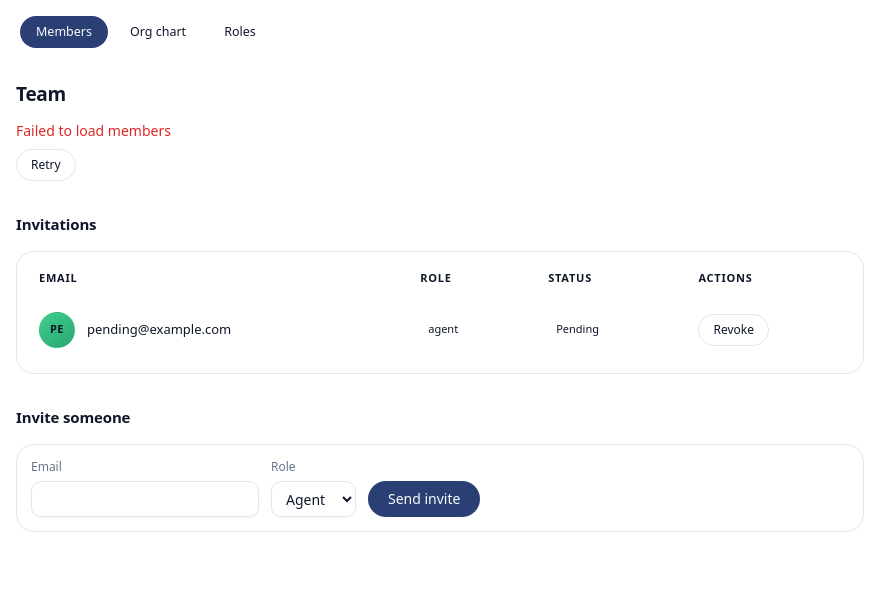
Test: TeamPage › shows a retry affordance when members fail to load, and recovers on retry
This screenshot has width=881, height=612.
Expected: the message reads "Failed to load members", [16,120,171,140]
Click the button "Retry": (46,164) [16,148,76,180]
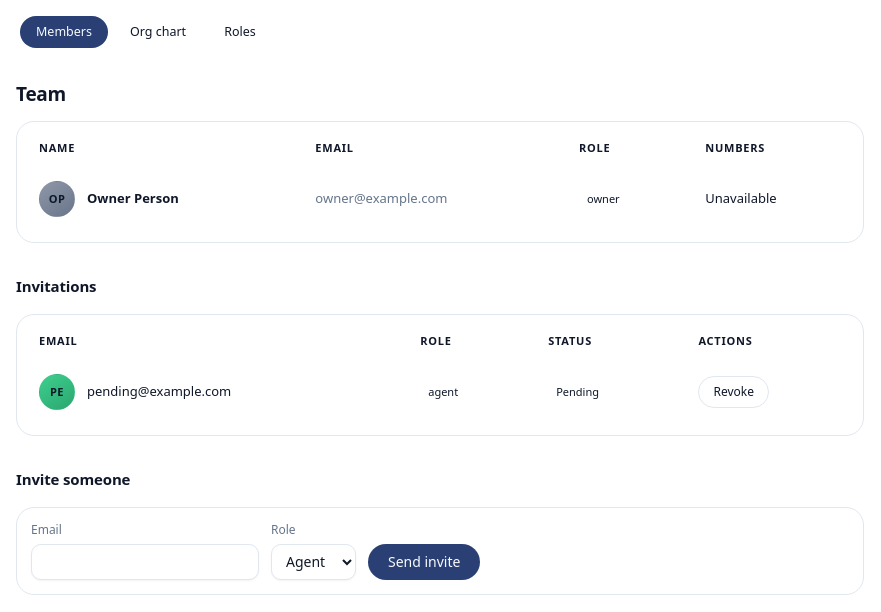
Expected: the text "owner@example.com" is shown, [301,170,565,228]
Expected: the message "Failed to load members" is gone
